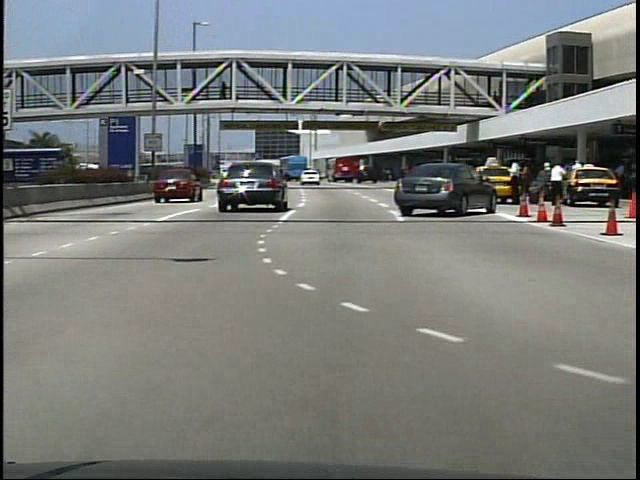person: (544, 158, 568, 207), (505, 158, 523, 207), (540, 159, 558, 204), (219, 81, 230, 104)
